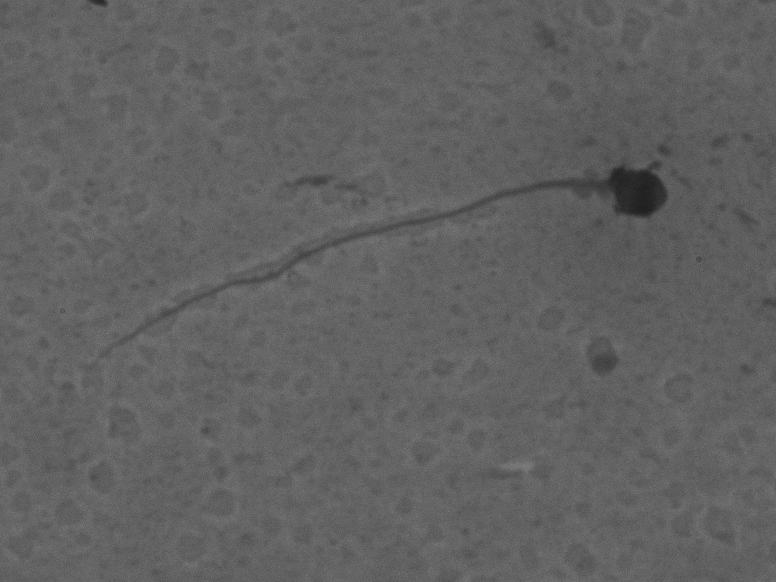Abnormal: (93, 119, 677, 388)
